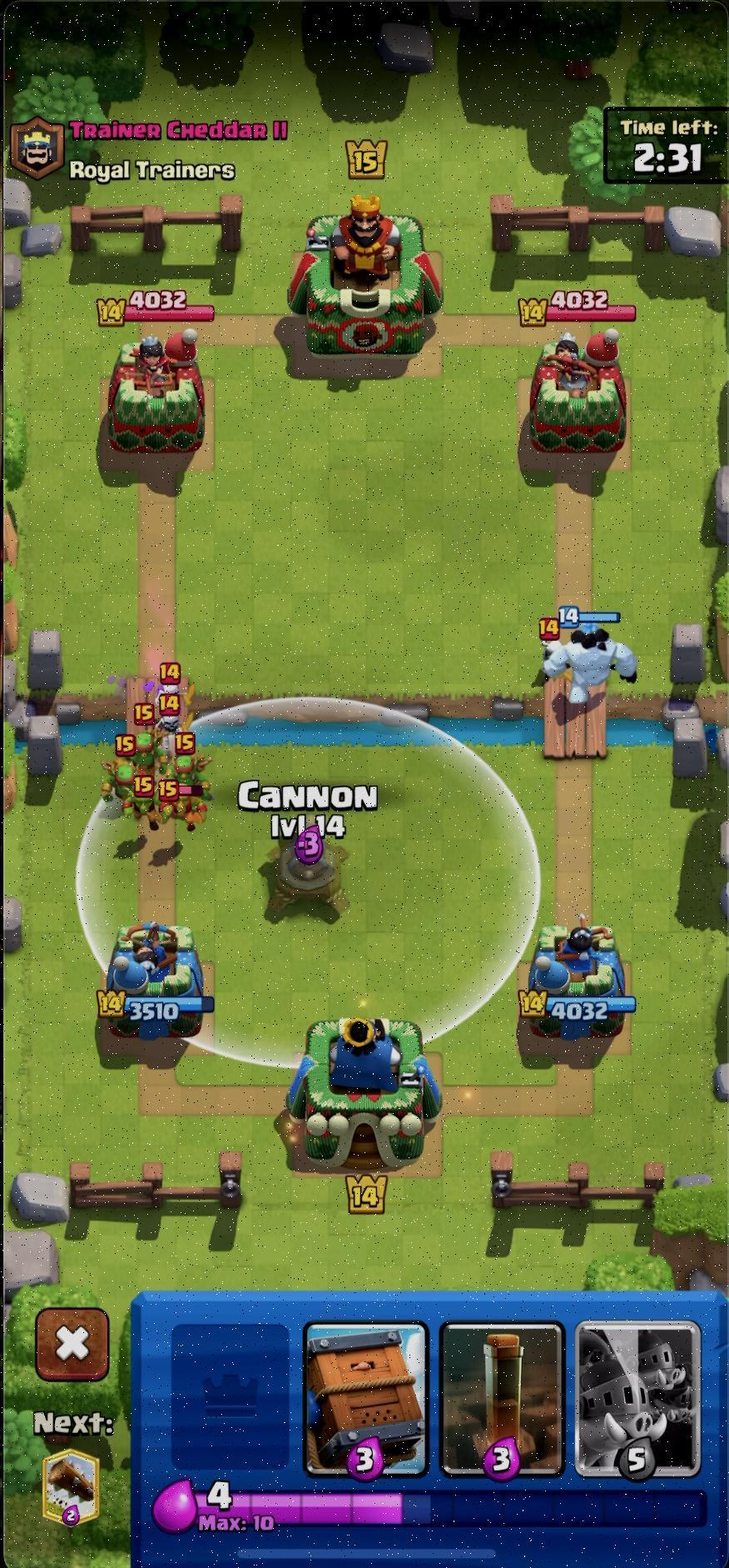card_earthquake: (433, 1317, 570, 1484)
card_log: (36, 1446, 105, 1530)
card_royaldelivery: (301, 1318, 430, 1482)
card_royalhogs: (575, 1313, 704, 1483)
